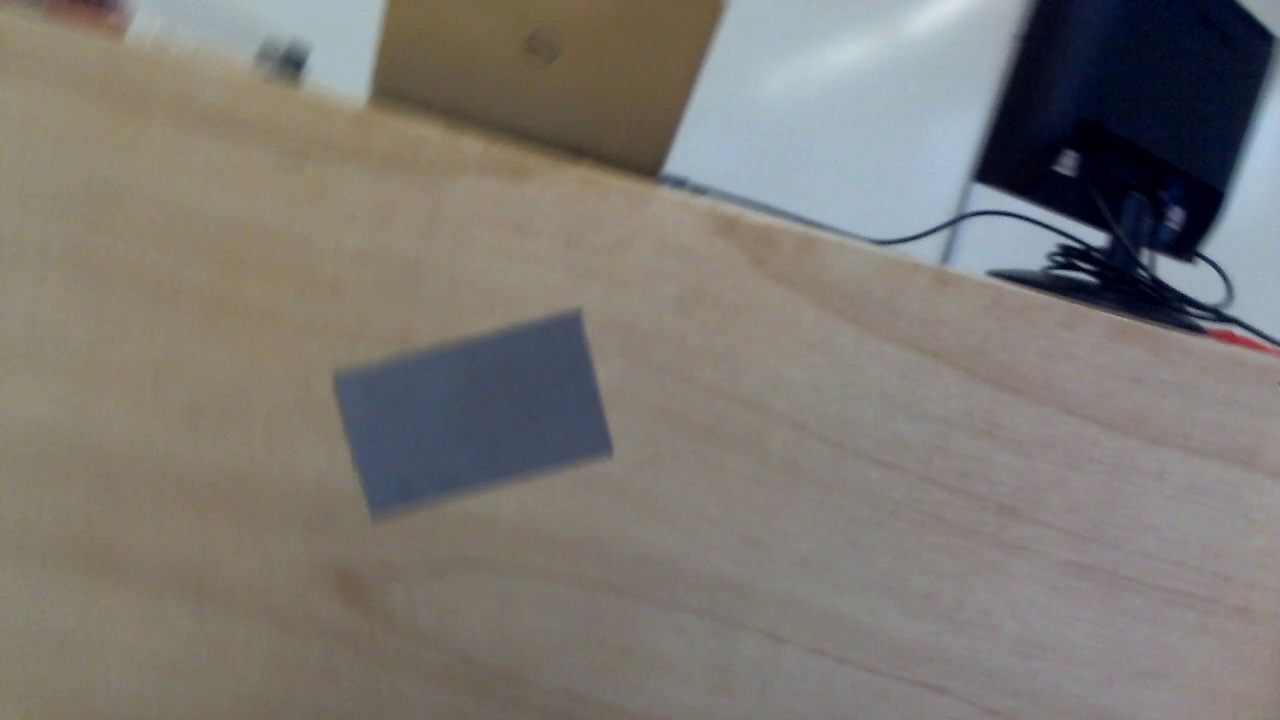Tape: (334, 314, 615, 520)
